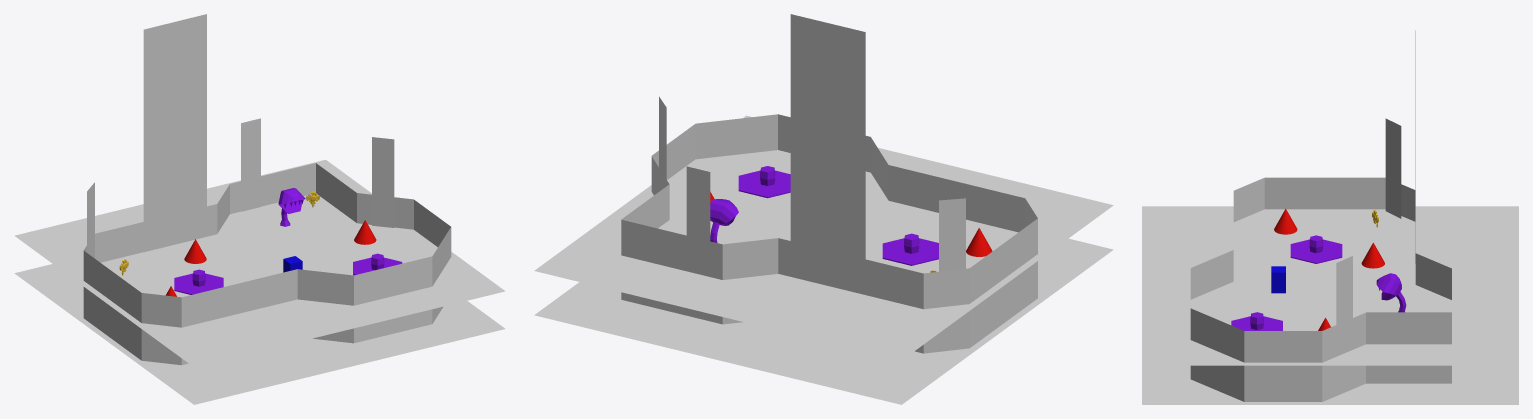
Rendered from N3-Pantano.fbx.
The picture shows the model from 3 angles, left to right: view 1: azimuth 30°, elevation 25°; view 2: azimuth 150°, elevation 25°; view 3: azimuth 270°, elevation 25°; orthographic projection. The views are drawn at different scales.
Parts seen in each view (by area): view 1: Base.004, Limite 1-3, Arbol Sequoia.007, Arbol.010, Arbol.011, Barriles en Barro.001, Planta Carnivora.001, Barriles en Barro.004, Arbol.008; view 2: Base.004, Limite 1-3, Arbol Sequoia.007, Arbol.008, Arbol.011, Barriles en Barro.001, Barriles en Barro.004, Planta Carnivora.001, Arbol.010; view 3: Base.004, Limite 1-3, Arbol.008, Barriles en Barro.001, Arbol.010, Barriles en Barro.004, Planta Carnivora.001, Jugador.004, Spawn.009, Spawn.008.
Part boxes in pixels (x1,y1,x2,y2): Base.004: (14,159,505,404); Limite 1-3: (83,163,451,327); Arbol Sequoia.007: (143,14,206,252); Arbol.010: (372,137,394,227); Arbol.011: (241,118,260,211); Barriles en Barro.001: (174,269,223,294); Planta Carnivora.001: (278,188,305,226); Barriles en Barro.004: (353,253,402,275); Arbol.008: (87,182,94,258); Base.004: (534,115,1113,404); Limite 1-3: (621,114,1037,309); Arbol Sequoia.007: (790,14,865,259); Arbol.008: (939,198,965,271); Arbol.011: (686,166,710,241); Barriles en Barro.001: (882,233,938,265); Barriles en Barro.004: (738,166,790,198); Planta Carnivora.001: (710,199,738,242); Arbol.010: (659,96,666,178); Base.004: (1142,206,1518,404); Limite 1-3: (1190,177,1451,362); Arbol.008: (1385,118,1401,218); Barriles en Barro.001: (1290,235,1342,263); Arbol.010: (1336,256,1352,324); Barriles en Barro.004: (1231,312,1282,330); Planta Carnivora.001: (1376,273,1406,312); Jugador.004: (1271,266,1285,293); Spawn.009: (1274,208,1297,234); Spawn.008: (1361,242,1384,268).
Bounding box in the file's own units: 1735 × 1385 × 1735.
